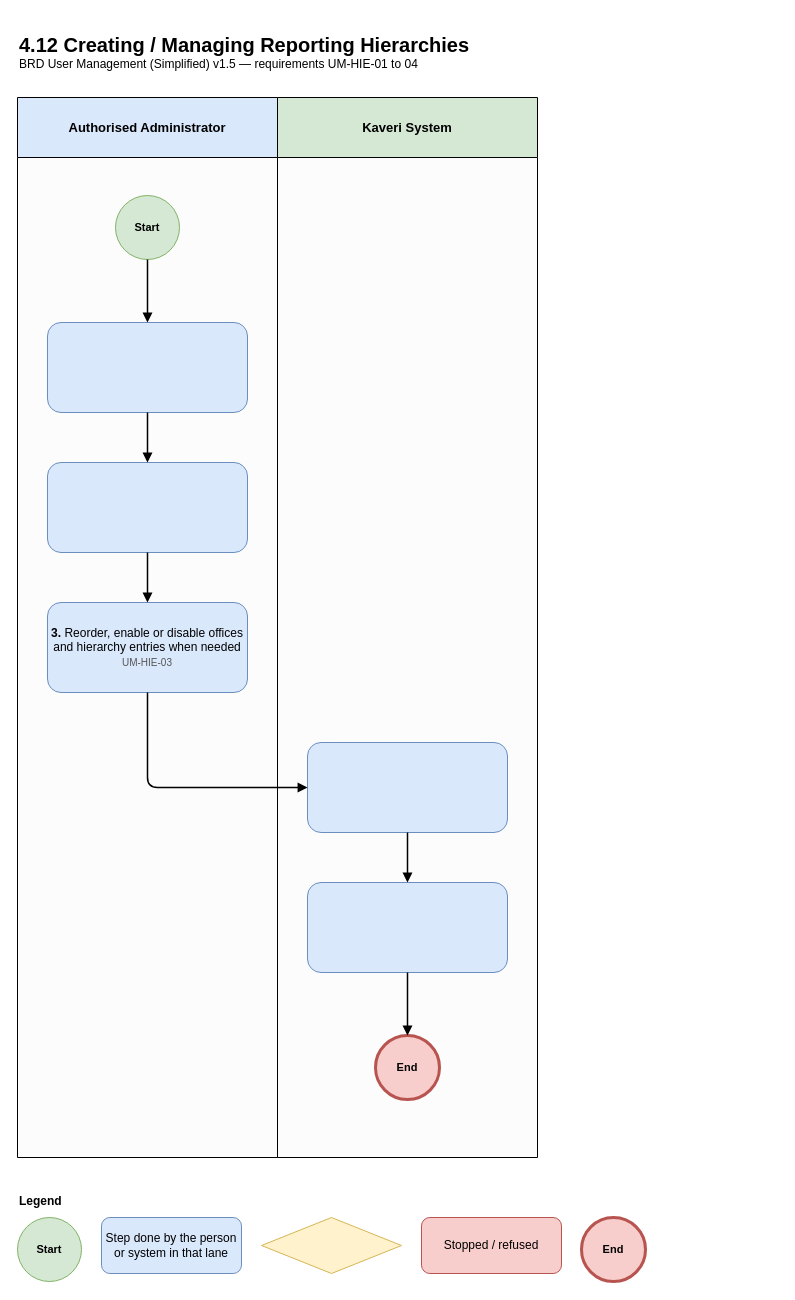
The diagram is 795 pixels wide and 1300 high, and some of its shapes have lost their labels. The centre of each missing label's shape, as x and y in pixels:
"1. Add or change an office: code, name, type and parent office UM-HIE-01" goes at [147,367].
"2. Set the post that each post reports to (one parent post) UM-HIE-02" goes at [147,507].
"4. Save and record the change UM-HIE-03" goes at [407,787].
"5. Use the hierarchies to decide what each superior can see and do UM-HIE-04" goes at [407,927].
"Check / choice" goes at [331,1245].
